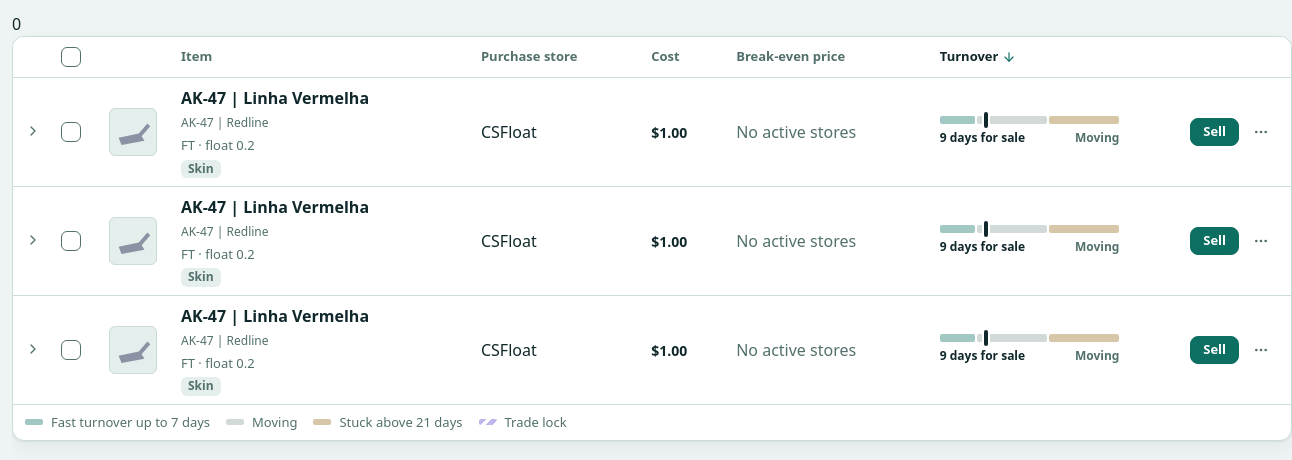
Scenario: seleção única na visão individual › caixa por unidade e "selecionar todas" com estado parcial
Click the checkbox named "Select AK-47 | Linha Vermelha (#2)" at (71, 241), box top-left (61, 231), bottom-right (81, 251)
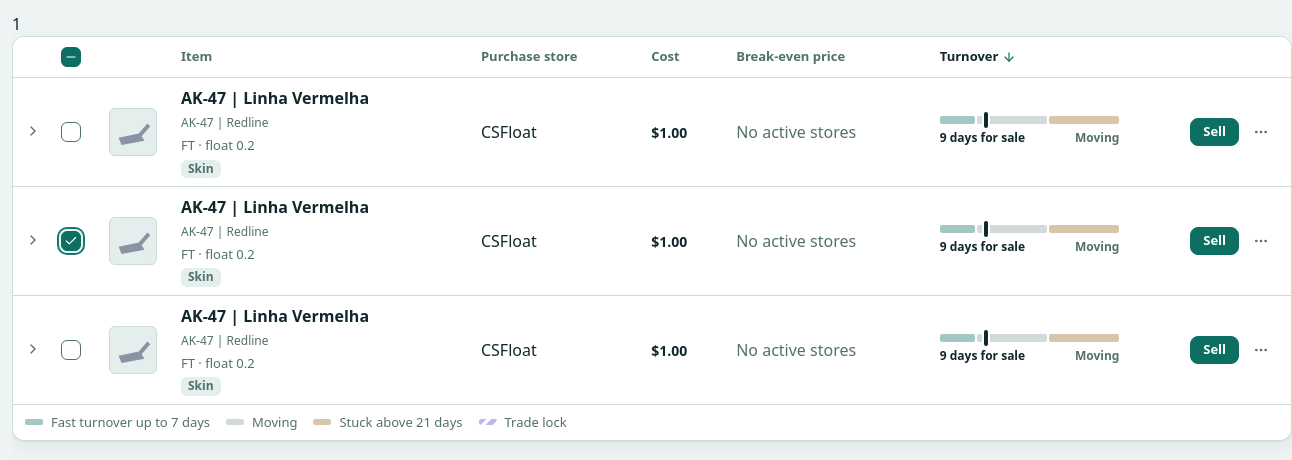
Now the text with test id "n" reads "1", box top-left (12, 13), bottom-right (21, 35)
Click the checkbox named "Select all rows" at (71, 57), box top-left (61, 47), bottom-right (81, 67)
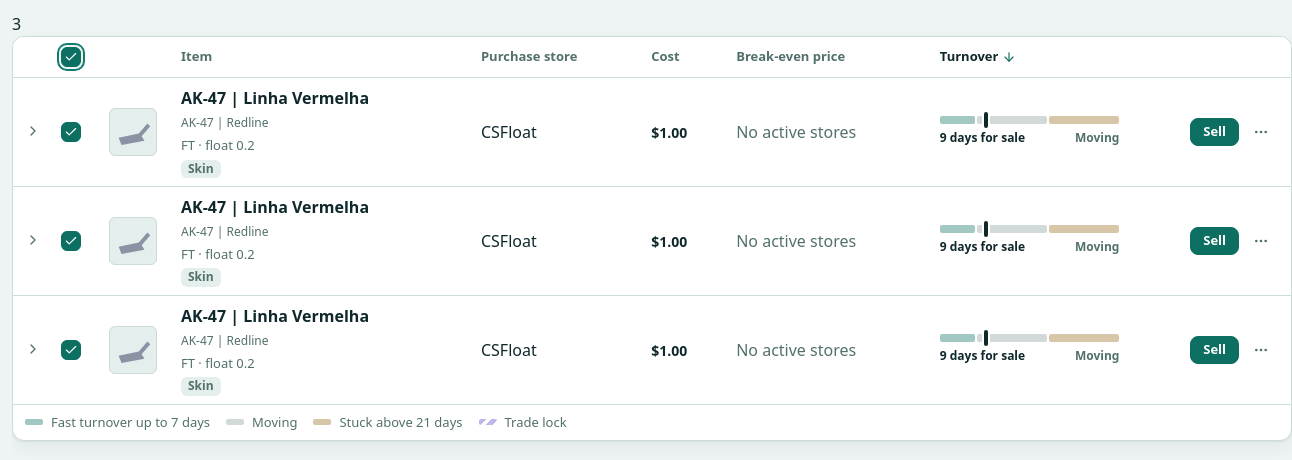
Now the text with test id "n" reads "3", box top-left (12, 13), bottom-right (21, 35)
Click the checkbox named "Select all rows" at (71, 57), box top-left (61, 47), bottom-right (81, 67)
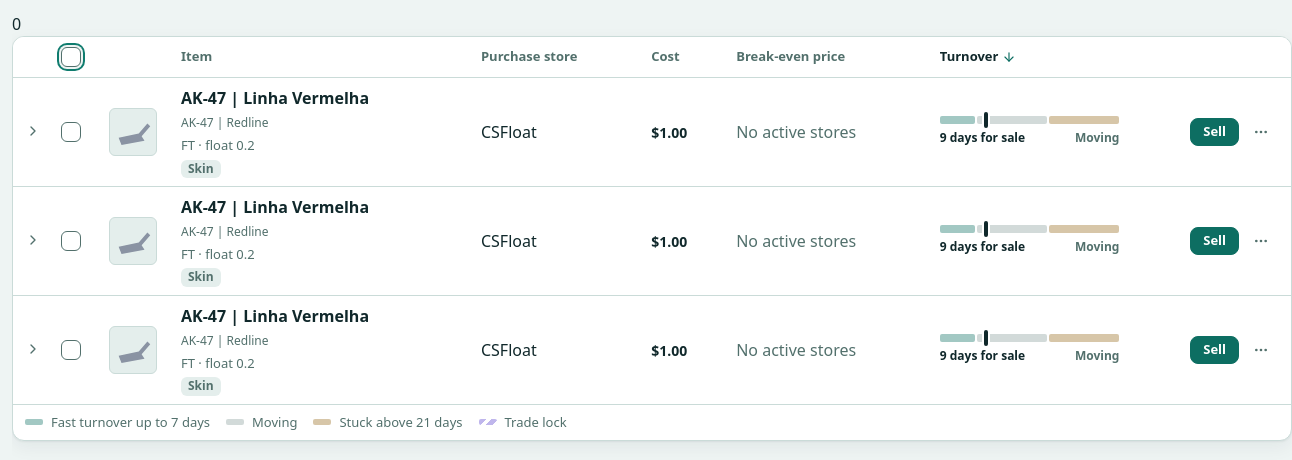
Now the text with test id "n" reads "0", box top-left (12, 13), bottom-right (21, 35)
